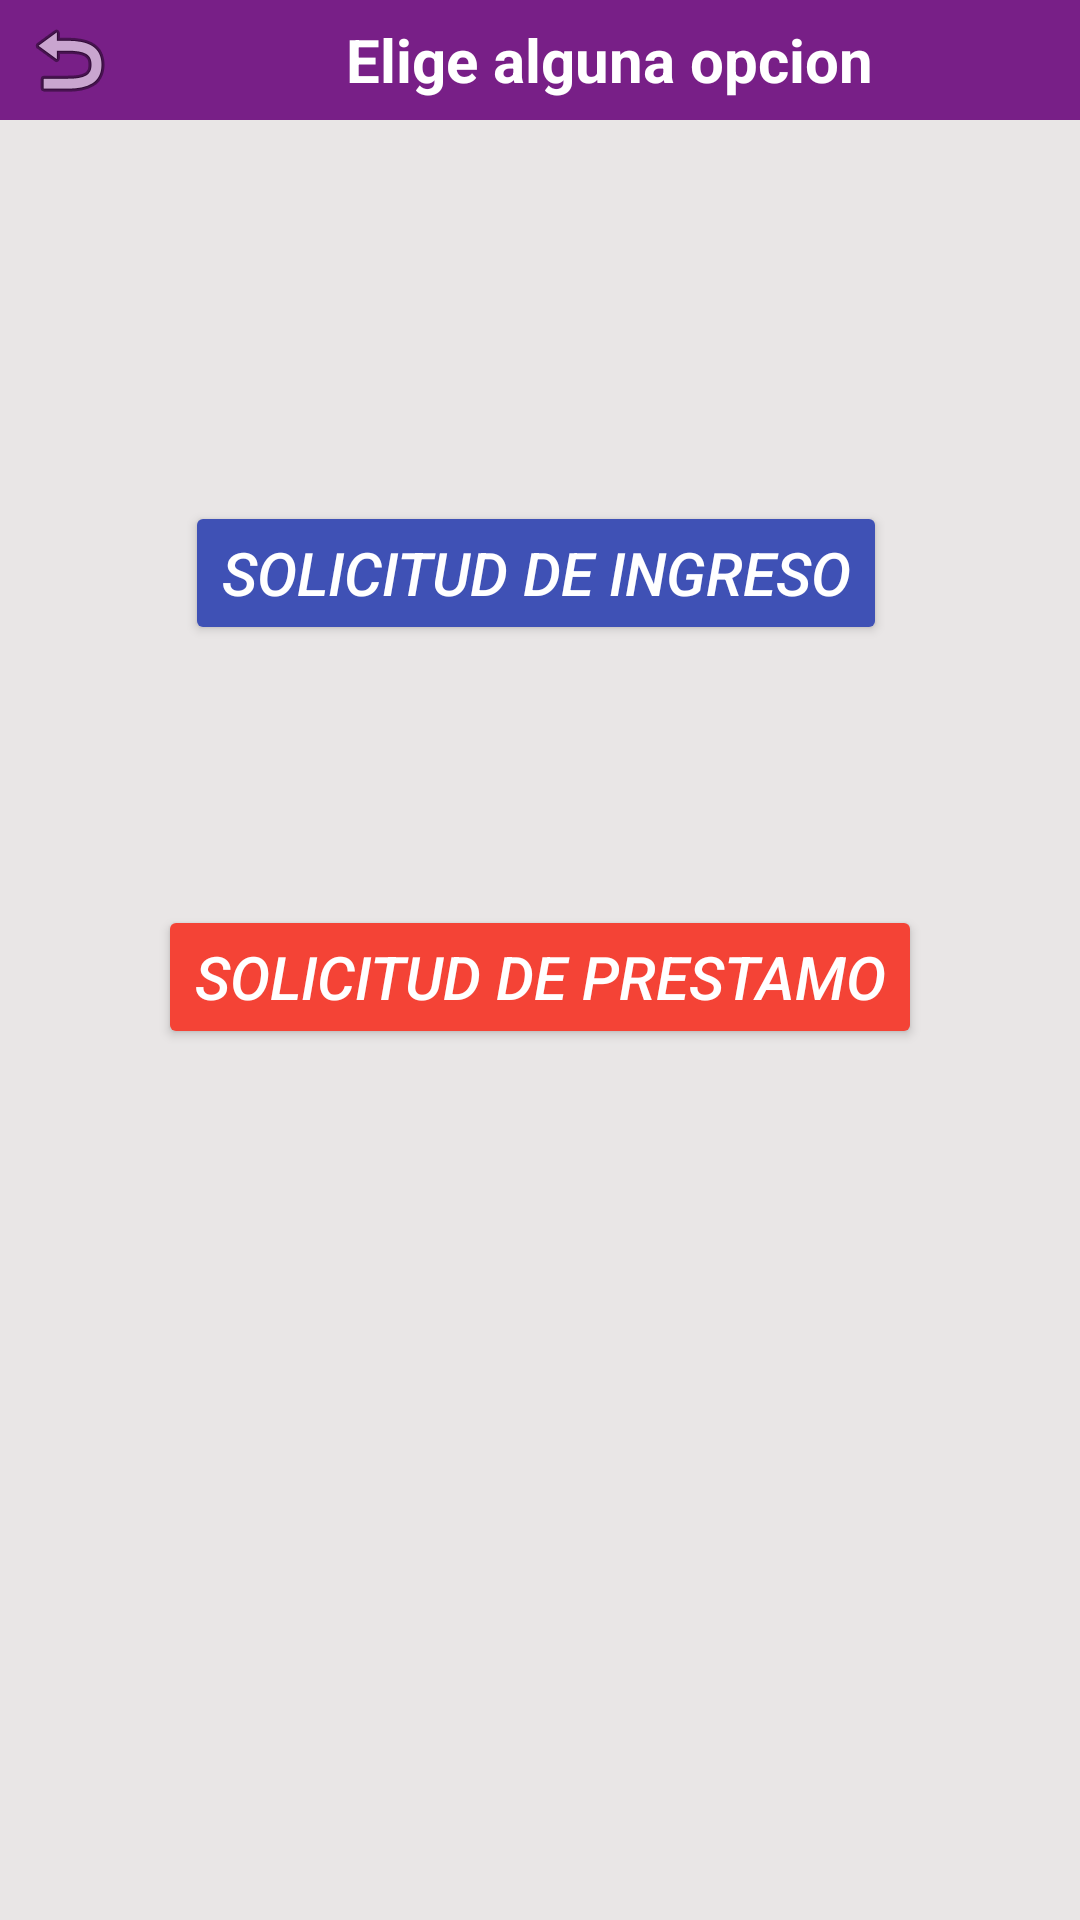

Locate icon controls on the screen. Image size 1080*1920, boxes as [x1=x1, y1=y1, x2=x2, y2=y2].
revert: [x1=36, y1=30, x2=105, y2=92]
